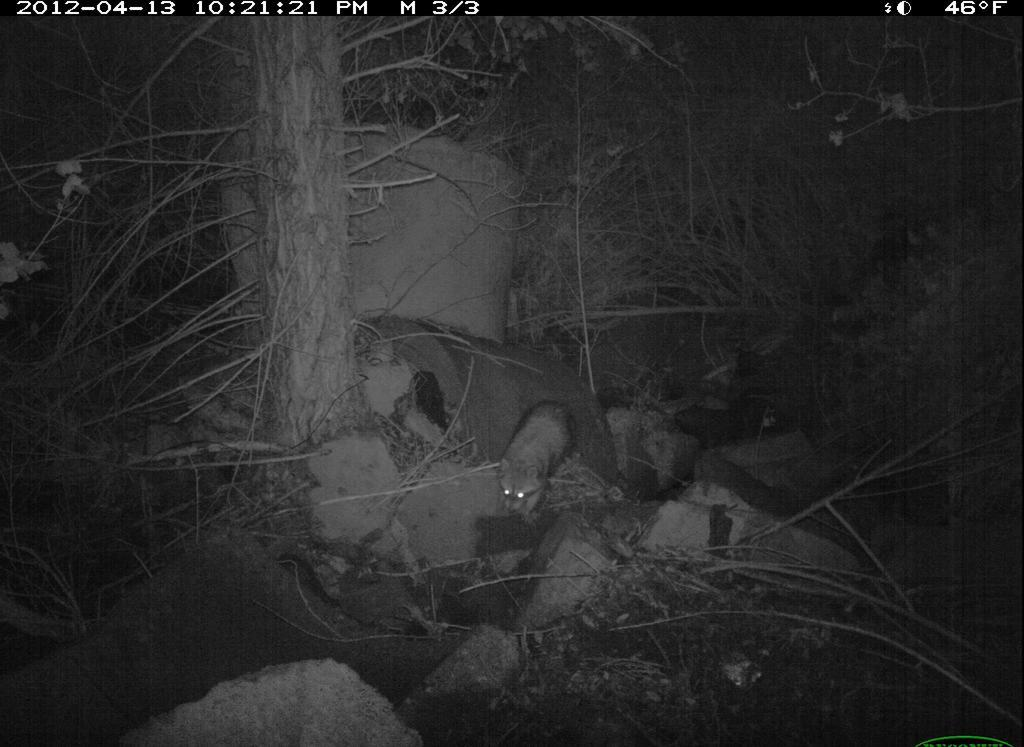raccoon: (492, 388, 584, 527)
